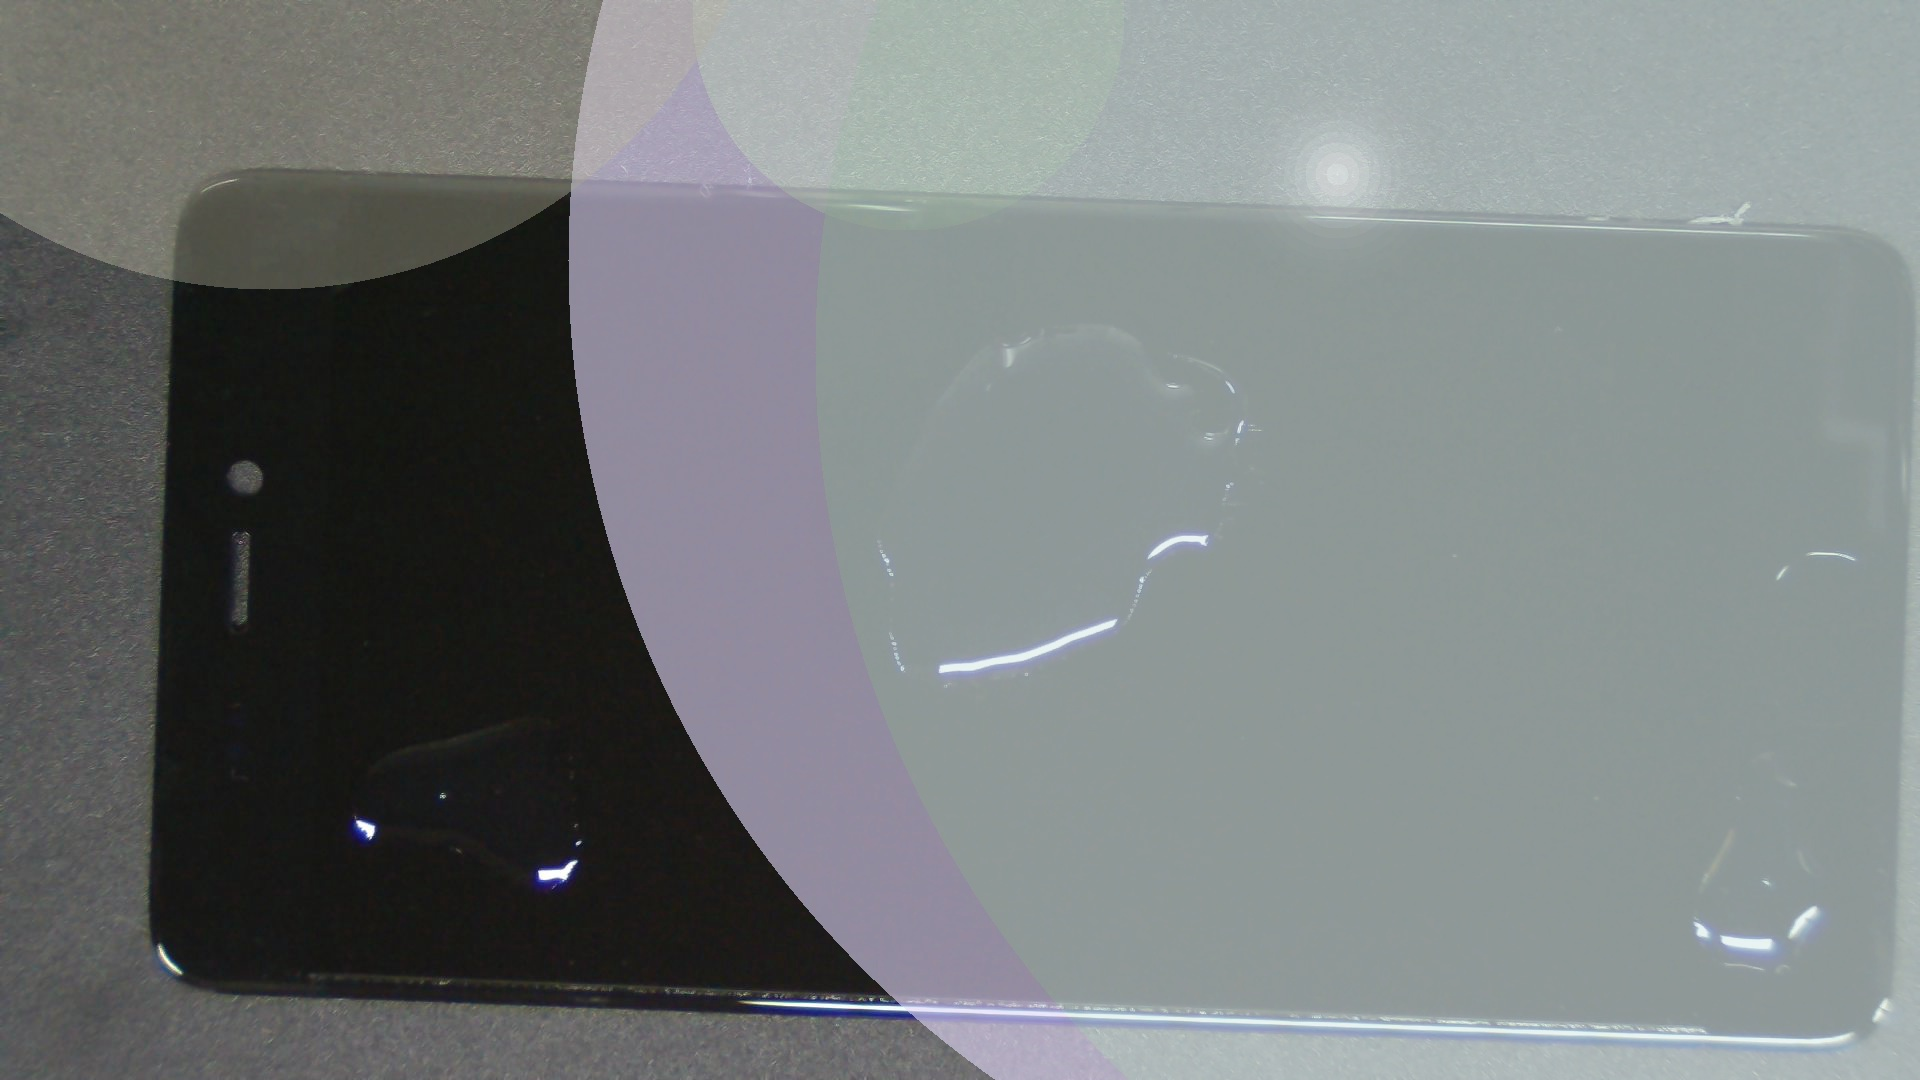oil: (881, 376, 1920, 1080), (266, 357, 799, 1076), (525, 161, 1573, 487)
